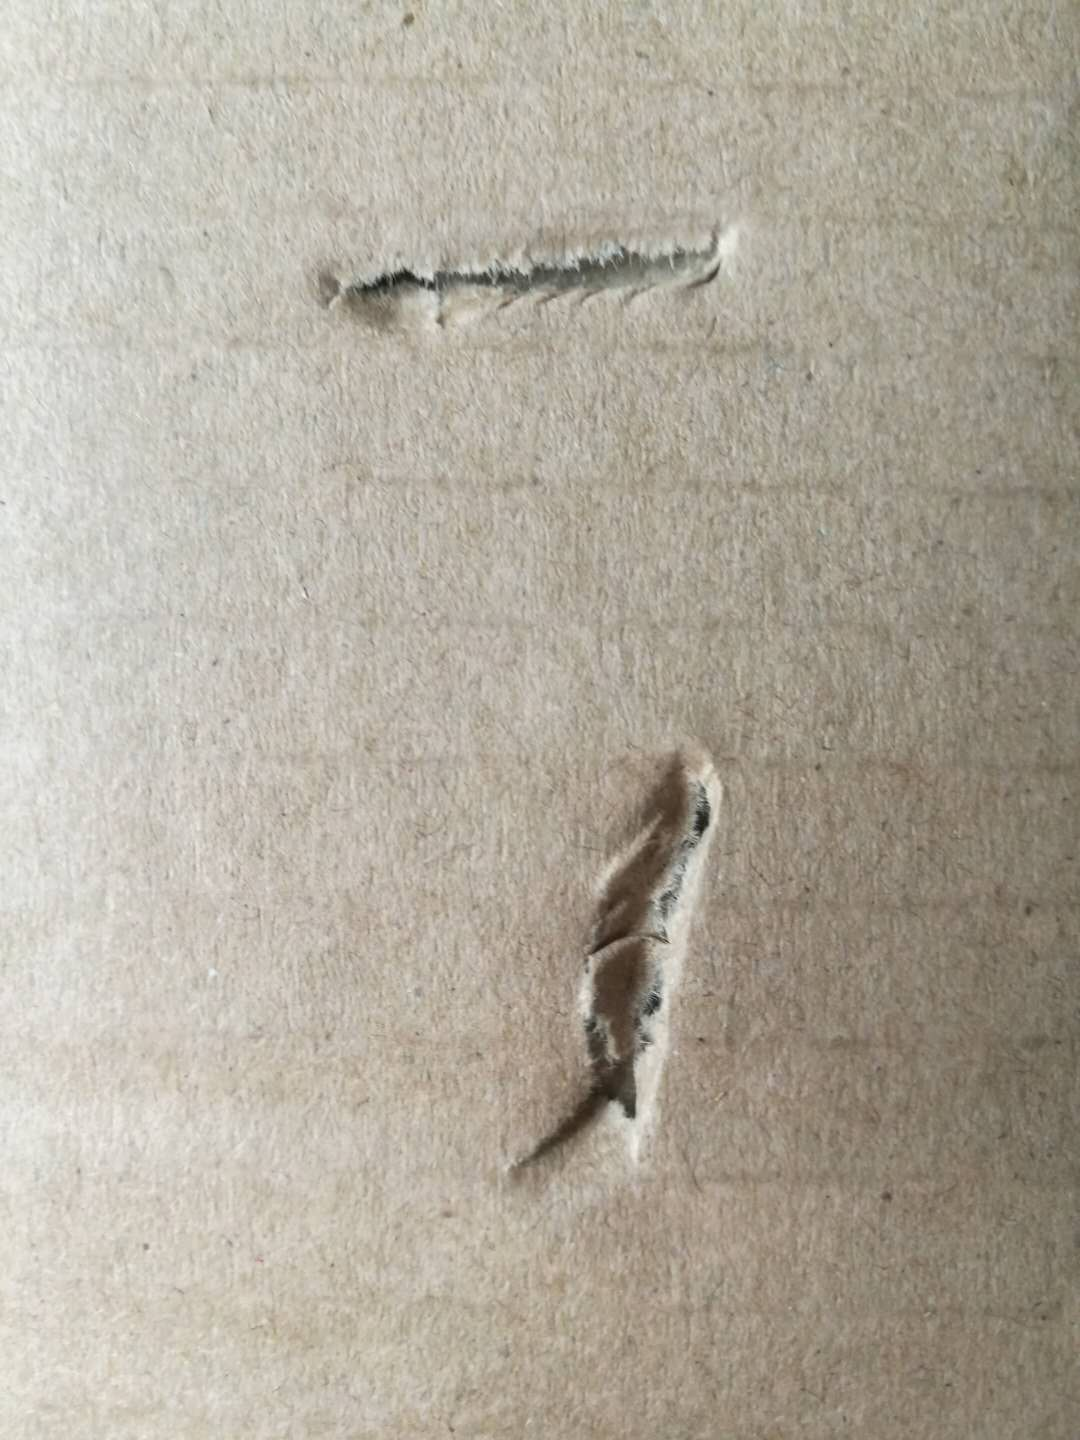defect: (474, 698, 782, 1245), (265, 166, 811, 386)
